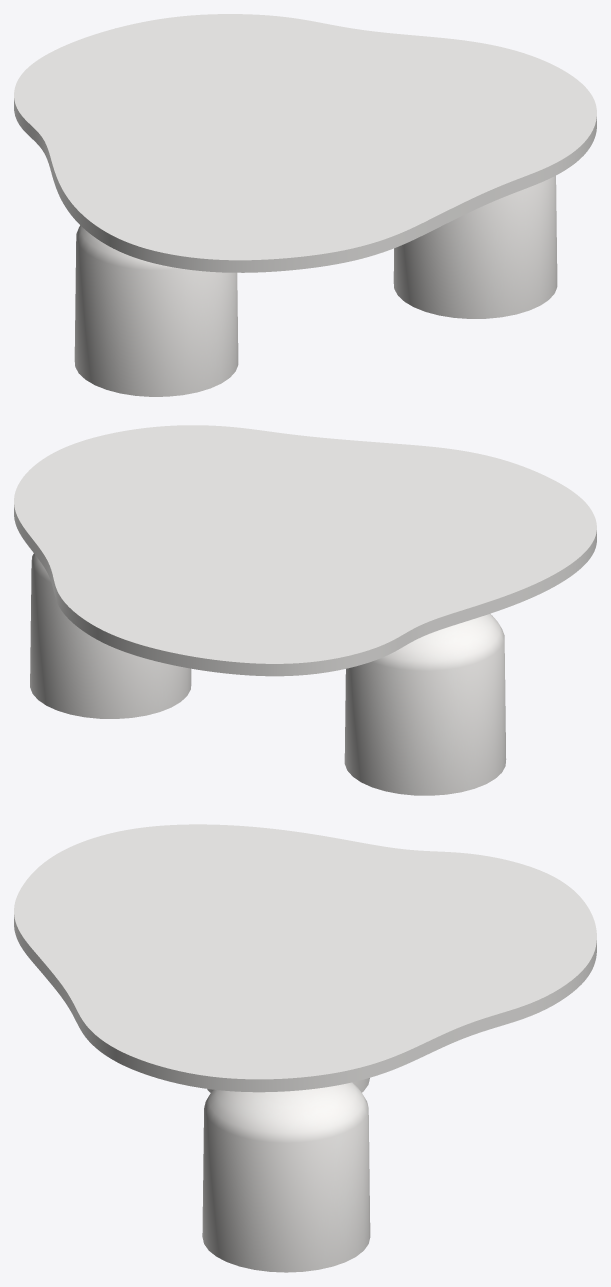
The model's file is purewhite_topone_standard_tornado.glb.
3 renders of one model, top to bottom at view 1: azimuth 30°, elevation 25°; view 2: azimuth 150°, elevation 25°; view 3: azimuth 270°, elevation 25°, orthographic. The views are drawn at different scales.
Visible parts, largest first — view 1: standard_topone, tornado; view 2: standard_topone, tornado; view 3: standard_topone, tornado.
Part boxes in pixels (bbox=[...]): standard_topone: bbox=[14, 14, 596, 272]; tornado: bbox=[74, 175, 557, 396]; standard_topone: bbox=[14, 425, 596, 676]; tornado: bbox=[30, 553, 506, 795]; standard_topone: bbox=[14, 824, 596, 1092]; tornado: bbox=[202, 1078, 370, 1272].
Bounding box in the file's own units: 6.83 × 2.5 × 6.6.
Materials: 1 (1 with a texture image).
